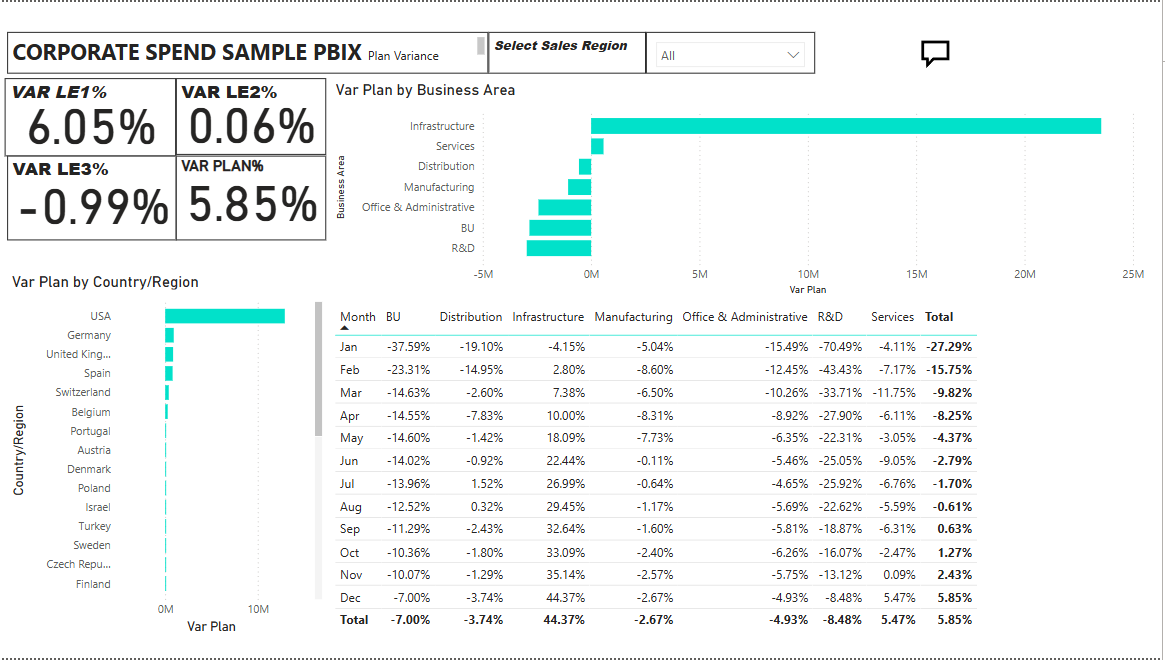

The dashboard page shown, as its layout file describes it:
{"tool":"powerbi","page":{"name":"Page 1","canvas":[1280,720],"ordinal":0},"visuals":[{"type":"textbox","box":[12.2,33,528.3,45.2],"z":1},{"type":"card","title":"VAR LE1%","fields":{"Values":["Fact.Var LE1 %"]},"box":[9.8,84.4,188.3,85.6],"z":2},{"type":"card","title":"VAR PLAN%","fields":{"Values":["Fact.Var Plan %"]},"box":[198.1,168.8,165.1,92.9],"z":3},{"type":"card","title":"VAR LE3%","fields":{"Values":["Fact.Var LE3 %"]},"box":[12.2,168.8,185.9,92.9],"z":4},{"type":"card","title":"VAR LE2%","fields":{"Values":["Fact.Var LE2 %"]},"box":[198.1,84.4,165.1,84.4],"z":5},{"type":"textbox","box":[540.5,33,172.4,45.2],"z":6},{"type":"slicer","fields":{"Values":["Country Region.Sales Region"]},"box":[712.9,33,185.9,45.2],"z":7},{"type":"clusteredBarChart","fields":{"Category":["Business Area.Business Area"],"Y":["Fact.Var Plan"]},"box":[368.1,86.8,897.6,240.9],"z":9},{"type":"clusteredBarChart","fields":{"Category":["Country Region.Country/Region"],"Y":["Fact.Var Plan"]},"box":[12.2,295.9,351,402.3],"z":10},{"type":"pivotTable","fields":{"Rows":["Date.Month"],"Columns":["Business Area.Business Area"],"Values":["Fact.Var Plan %"]},"box":[367.8,328,842.5,370.5],"z":11},{"type":"actionButton","box":[1011.3,37,100.2,39.8],"z":12}]}

Visuals, with their boxes in screenshot pixels (x1, y1, x2, y2), scaled from the page's 1280x720 canvas onto the 1165x660 screenshot:
textbox: locate(11, 30, 492, 72)
"VAR LE1%" card: locate(9, 77, 180, 156)
"VAR PLAN%" card: locate(180, 155, 331, 240)
"VAR LE3%" card: locate(11, 155, 180, 240)
"VAR LE2%" card: locate(180, 77, 331, 155)
textbox: locate(492, 30, 649, 72)
slicer - Country Region.Sales Region: locate(649, 30, 818, 72)
clusteredBarChart - Business Area.Business Area x Fact.Var Plan: locate(335, 80, 1152, 300)
clusteredBarChart - Country Region.Country/Region x Fact.Var Plan: locate(11, 271, 331, 640)
pivotTable - Date.Month x Business Area.Business Area: locate(335, 301, 1102, 640)
actionButton: locate(920, 34, 1012, 70)
